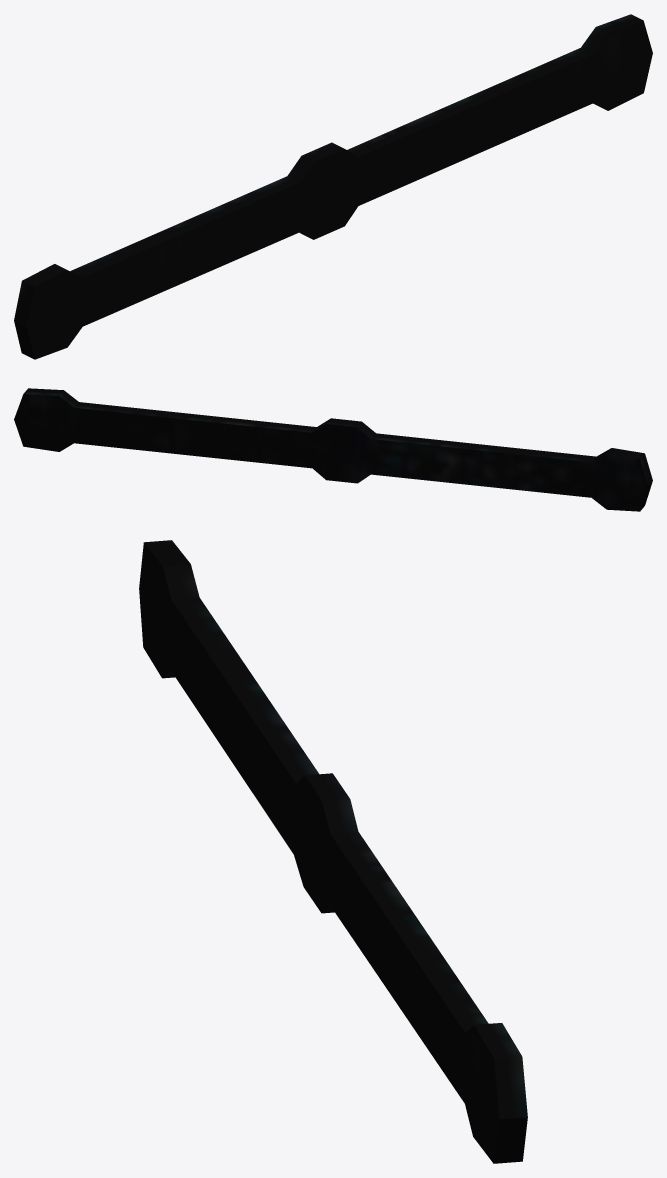
File: BarraIzqLarga.obj
The picture shows the model from 3 angles, top to bottom: view 1: azimuth 30°, elevation 25°; view 2: azimuth 150°, elevation 25°; view 3: azimuth 270°, elevation 25°; orthographic projection. The views are drawn at different scales.
Parts seen in each view (by area): view 1: BarraIzqLarga; view 2: BarraIzqLarga; view 3: BarraIzqLarga.
Boxes of the visible parts, <box> form: BarraIzqLarga: <box>14,14,652,359</box>; BarraIzqLarga: <box>14,388,652,511</box>; BarraIzqLarga: <box>139,540,527,1163</box>.
Bounding box in the file's own units: 0.8473 × 0.0832 × 0.2612.
Materials: 1 (1 with a texture image).
